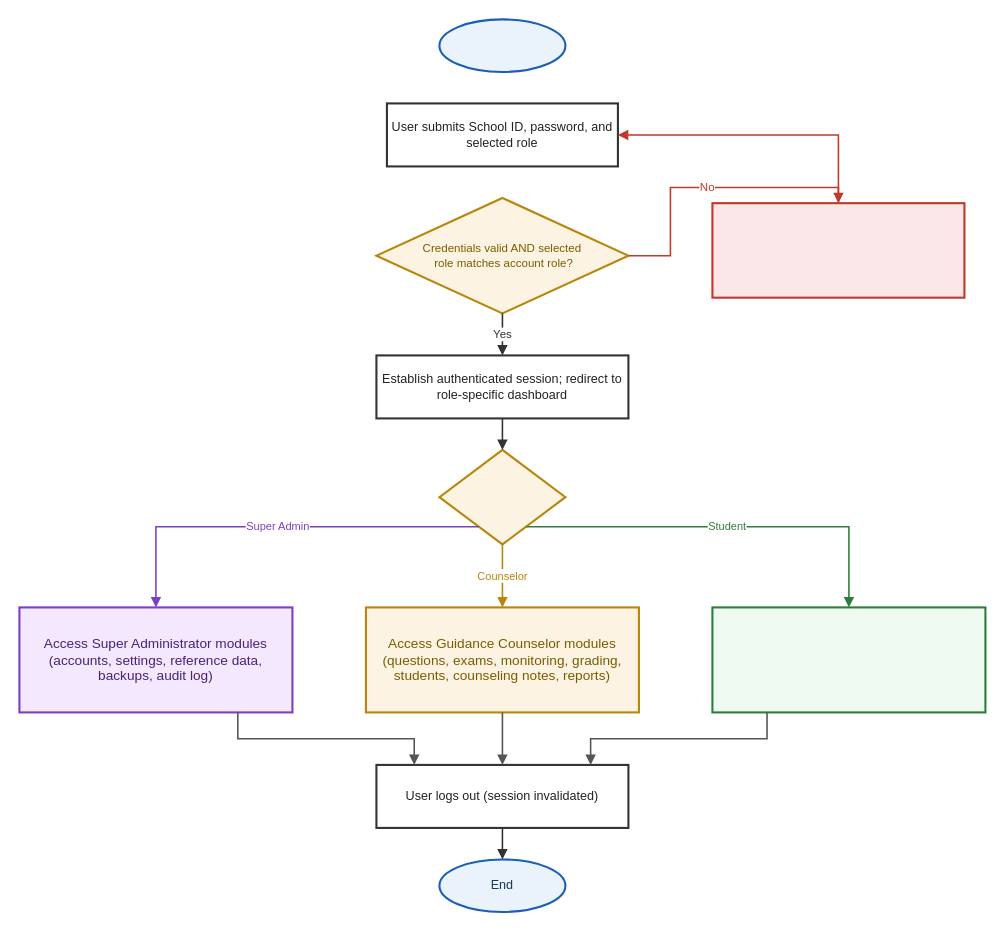
This 1004x930 diagram has some shape labels left out. Each missing label, with the box of its shape:
Access Student modules (join exam, take exam, view my results): (711, 606, 986, 713)
Reject login; display error naming the account's actual role if mismatched: (711, 202, 965, 298)
Role?: (438, 448, 566, 545)
Start: (438, 18, 566, 72)
